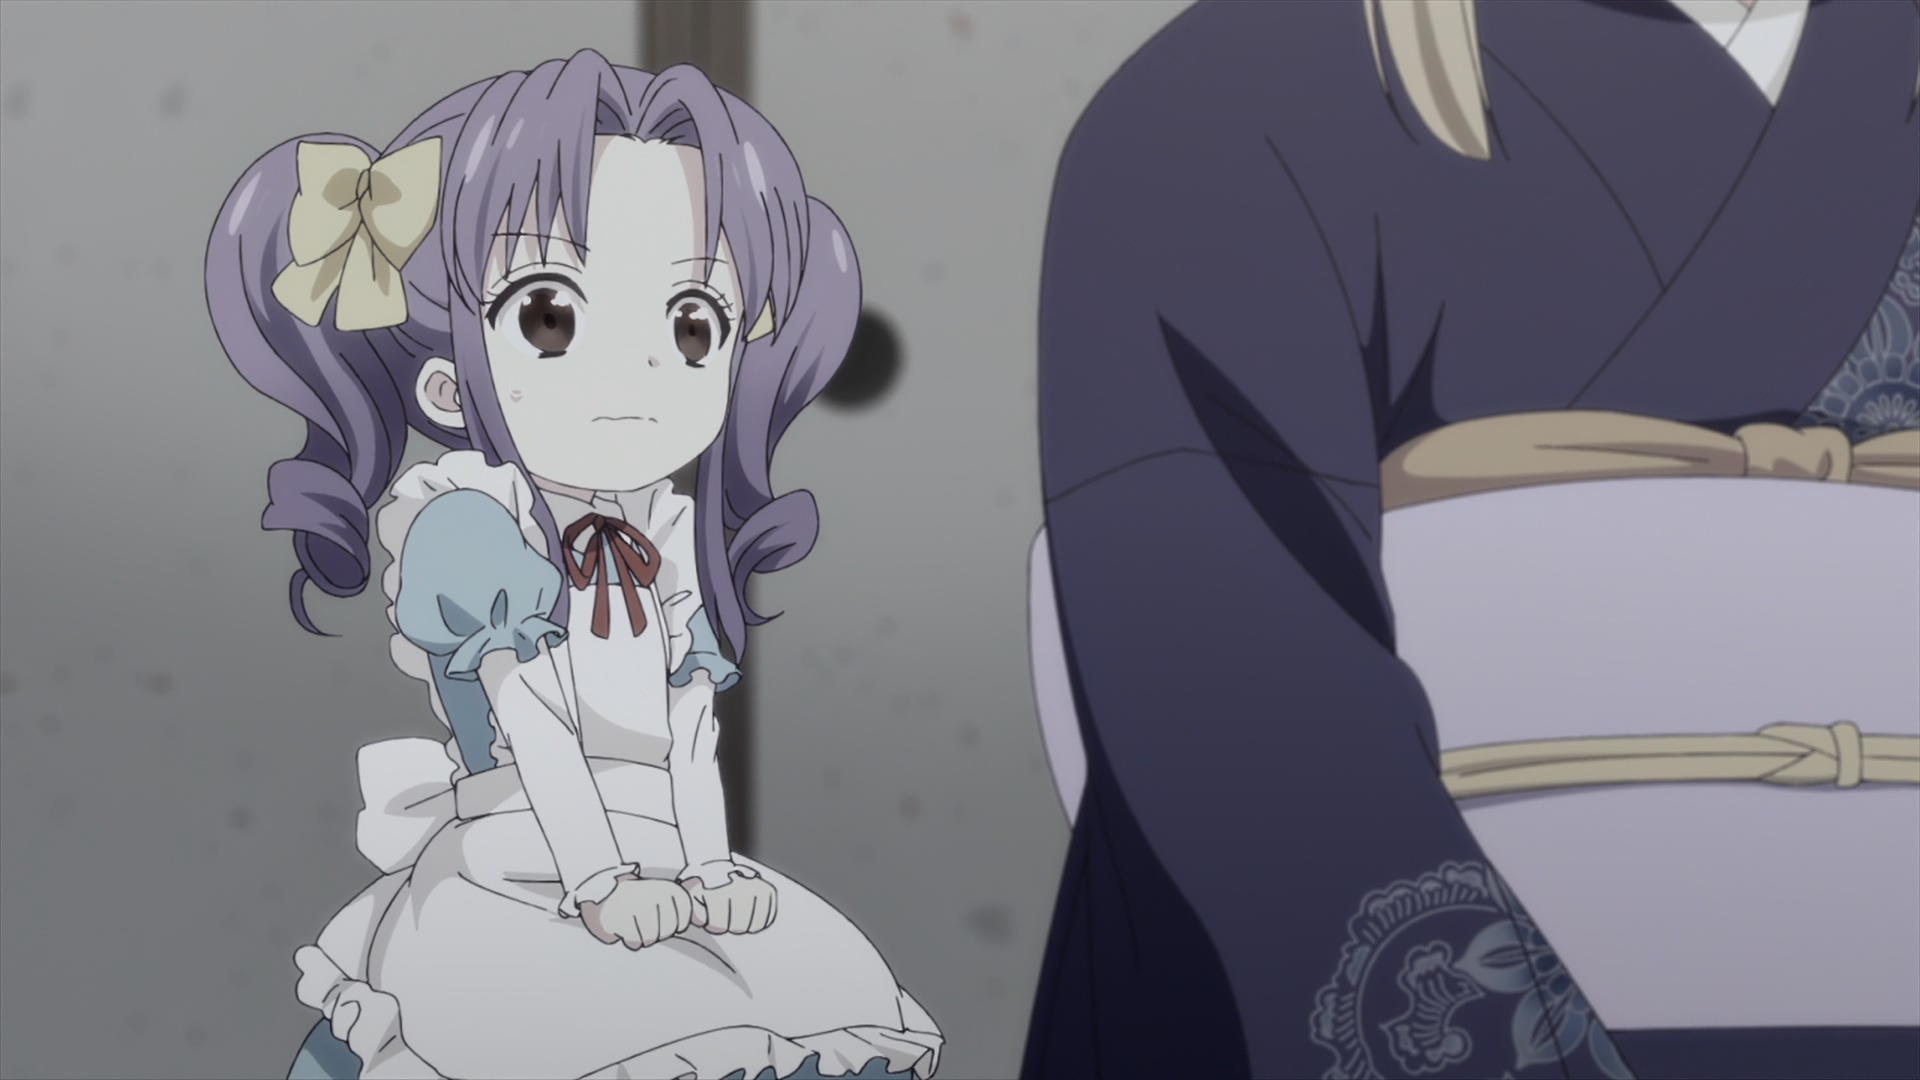其他: (1018, 1, 1920, 1080)
阿菊: (204, 49, 945, 1080)
